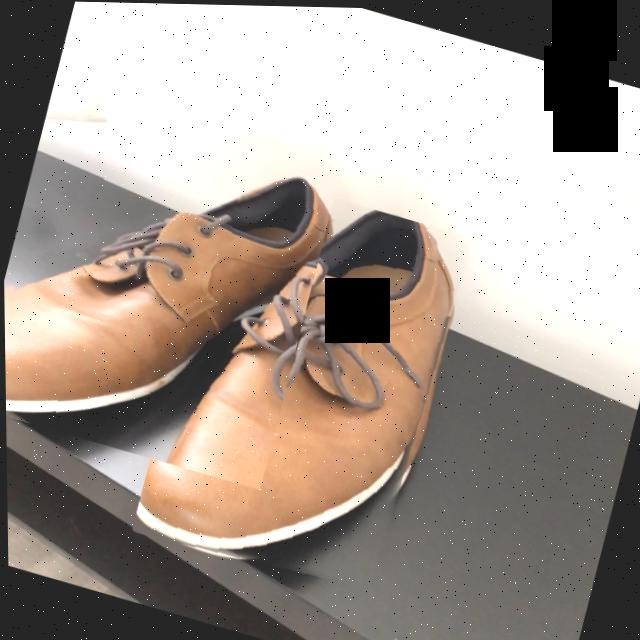shoe: (135, 209, 452, 553), (4, 170, 325, 419)
